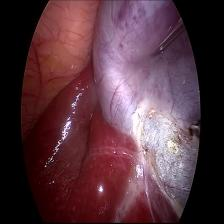Grasper: (148, 13, 189, 60)
